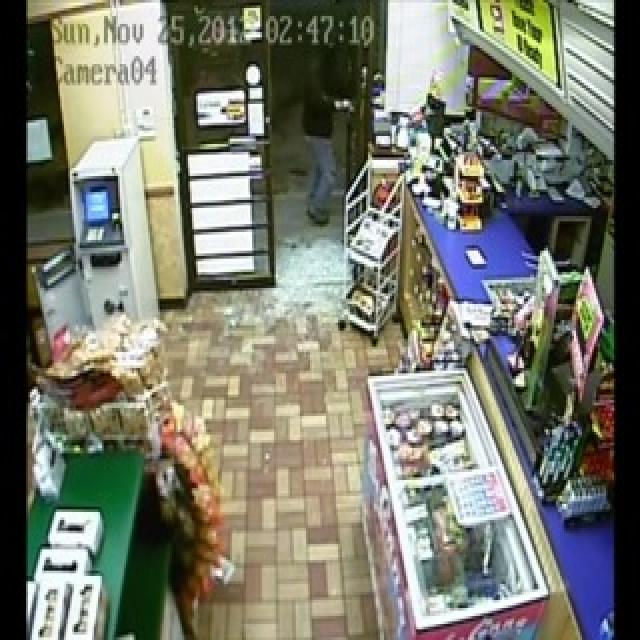thief: (290, 52, 350, 226)
